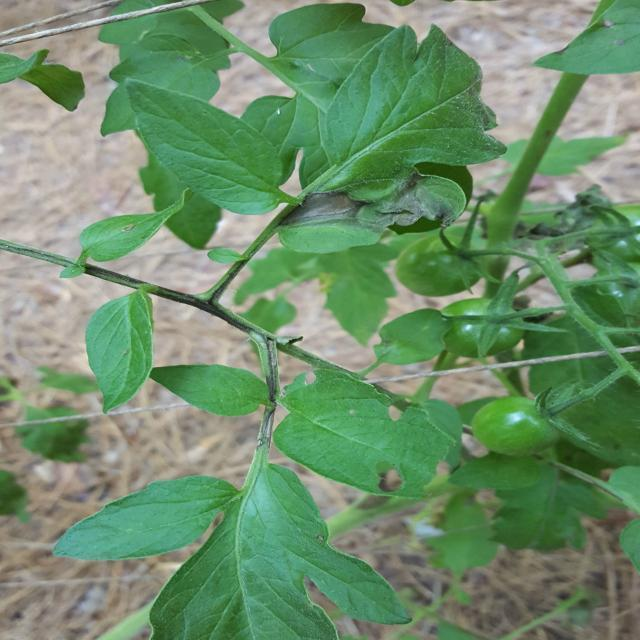Healthy Leaf: (46, 456, 416, 640), (122, 74, 294, 211), (73, 285, 150, 413), (142, 362, 276, 412)
